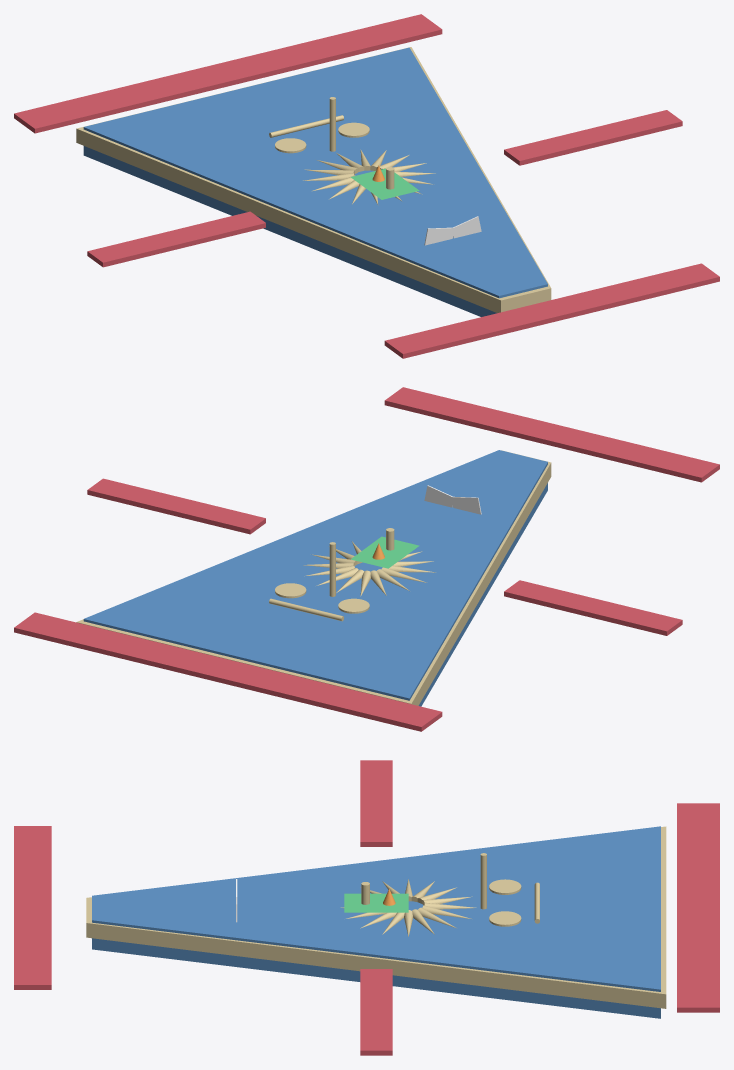
File: method3-blender.glb
3 renders of one model, top to bottom at view 1: azimuth 30°, elevation 25°; view 2: azimuth 150°, elevation 25°; view 3: azimuth 270°, elevation 25°, orthographic. The views are drawn at different scales.
Parts seen in each view (by area): view 1: Shield, Cube.002, Border, Cube.005, Cube.003, Cube.004, IndiaMap; view 2: Shield, Cube.002, Cube.005, Border, Cube.004, Cube.003, IndiaMap; view 3: Shield, Border, Cube.002, Cube.005, Cube.003, Cube.004, IndiaMap.
Part boxes in pixels (x1,y1,x2,y2): Shield: [83, 47, 547, 316]; Cube.002: [14, 14, 442, 133]; Border: [76, 47, 551, 312]; Cube.005: [384, 263, 719, 358]; Cube.003: [87, 211, 265, 267]; Cube.004: [504, 110, 682, 165]; IndiaMap: [350, 168, 419, 199]; Shield: [83, 450, 547, 706]; Cube.002: [14, 612, 442, 731]; Cube.005: [384, 387, 719, 482]; Border: [76, 450, 551, 705]; Cube.004: [87, 478, 265, 534]; Cube.003: [504, 580, 682, 635]; IndiaMap: [350, 536, 419, 568]; Shield: [92, 826, 660, 1018]; Border: [86, 826, 666, 1008]; Cube.002: [677, 803, 719, 1012]; Cube.005: [14, 826, 51, 989]; Cube.003: [360, 760, 392, 846]; Cube.004: [360, 969, 392, 1055]; IndiaMap: [344, 893, 408, 912].
Bounding box in the file's own units: 6.4 × 1 × 6.58.
